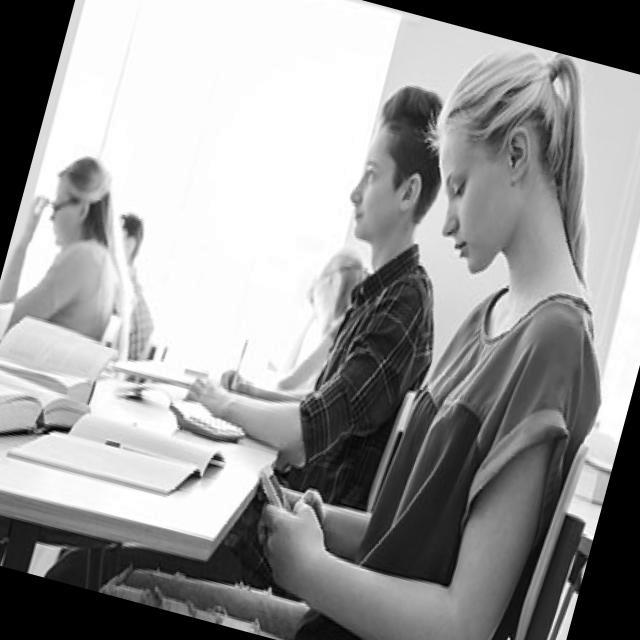phone: (252, 461, 302, 515), (32, 194, 48, 218)
